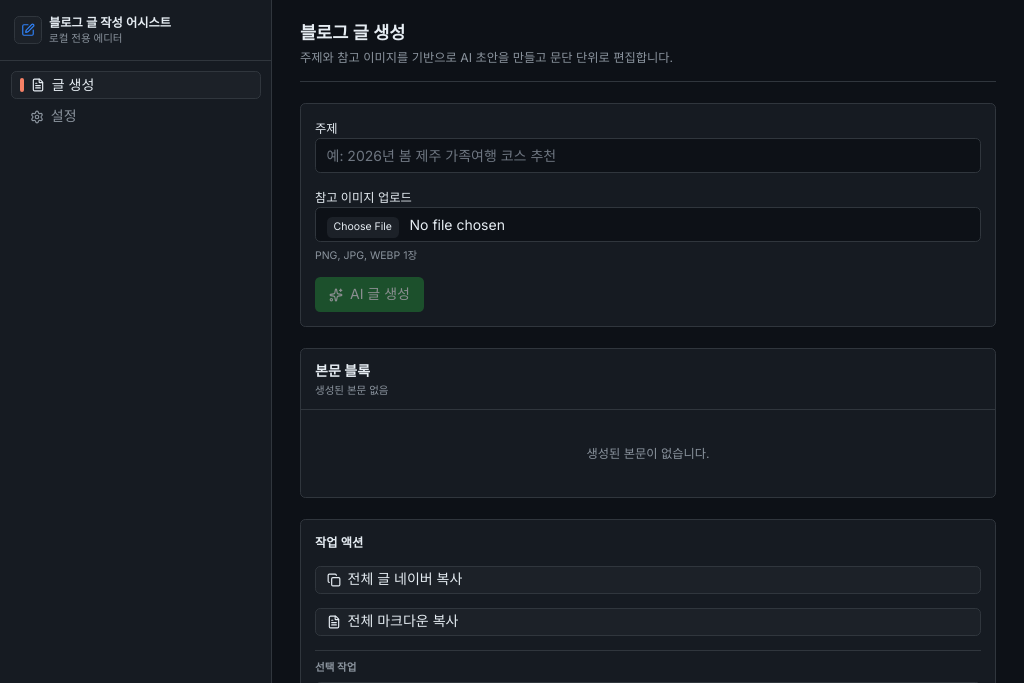
Test: App clipboard integration › copies current markdown text for debug fallback
The image size is (1024, 683).
Type "서울 전시 추천" into the field labelled "주제" at (648,155), box [315,138,981,173]
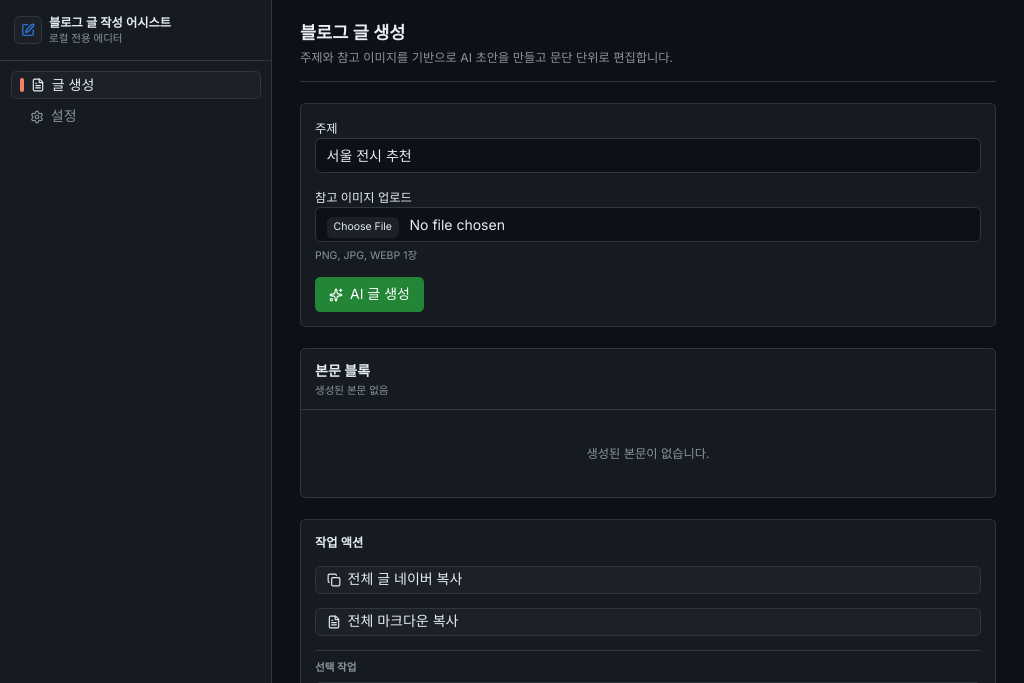
Click the button "AI 글 생성" at (369,295), box [315,277,424,312]
(page scrolled)
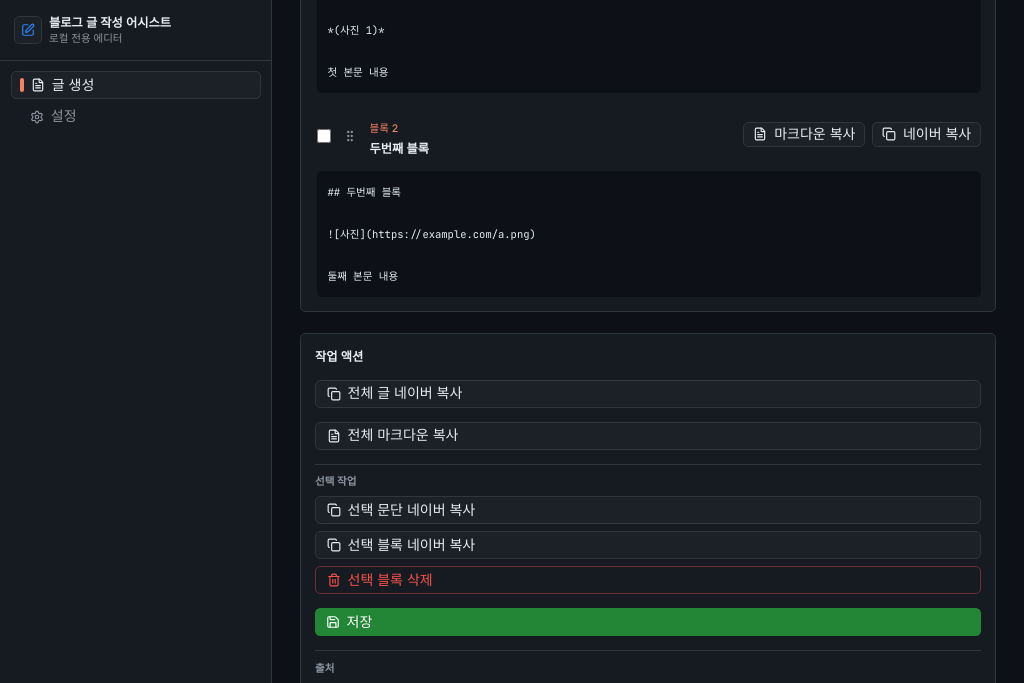
Click the button "전체 마크다운 복사" at (403,435), box [315,422,981,450]
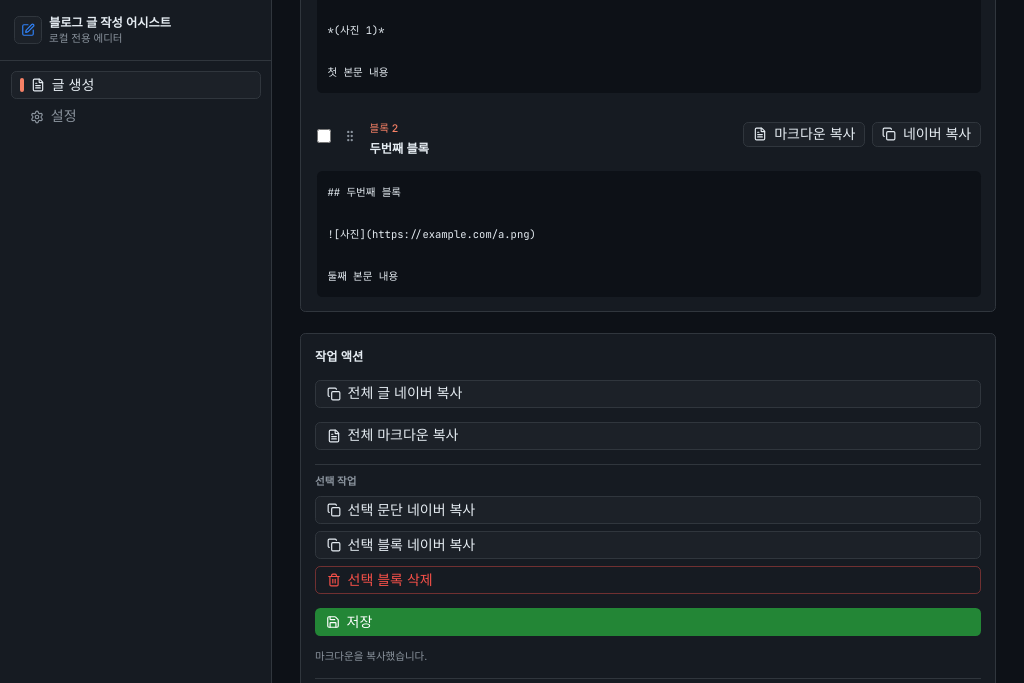
Check: the text "마크다운을 복사했습니다." is shown, box [315,650,427,663]
